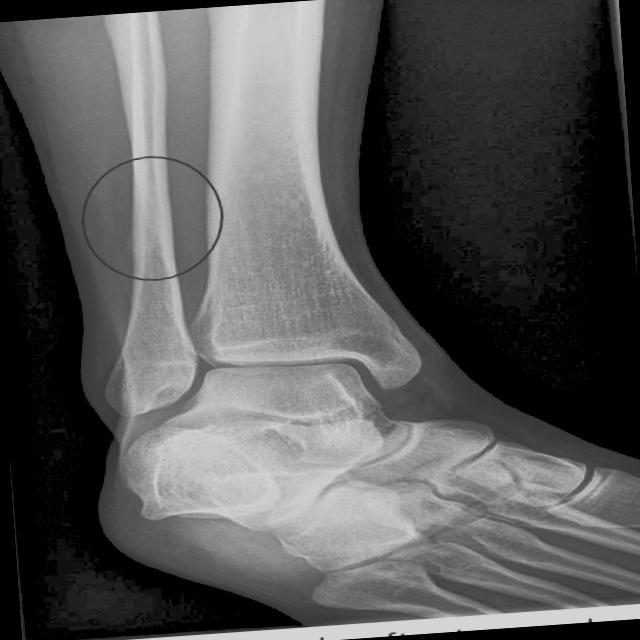HairLine Fracture: (131, 160, 177, 279)
